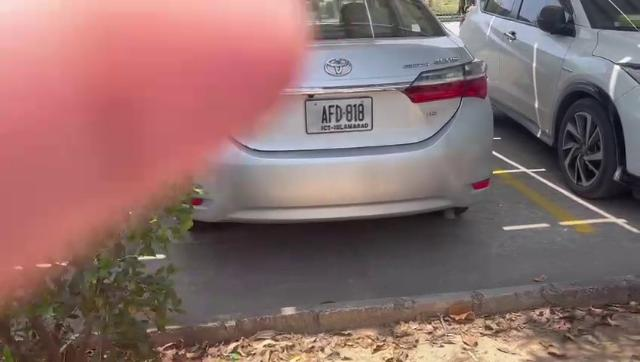plate: (303, 96, 375, 134)
